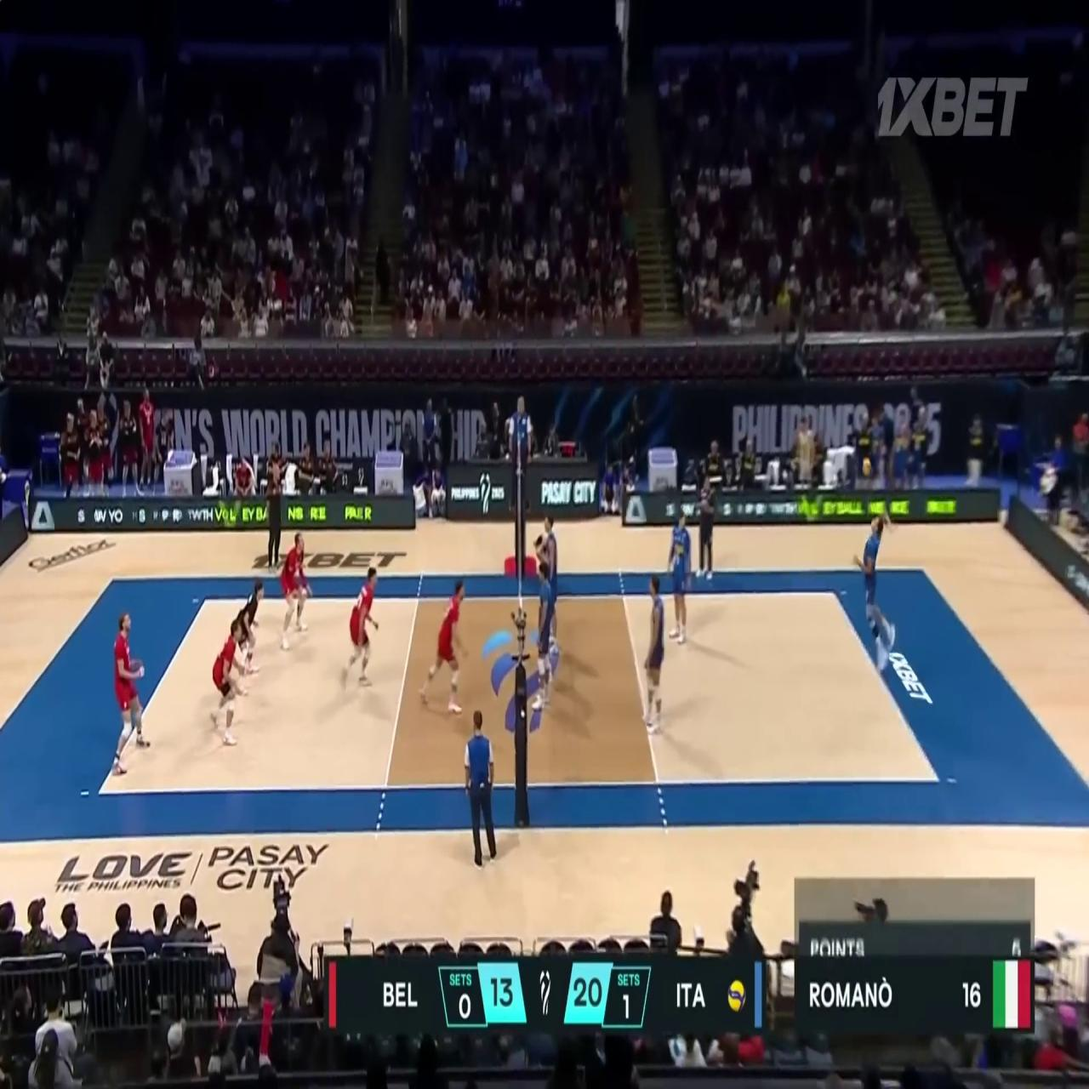ball: (862, 459, 871, 477)
